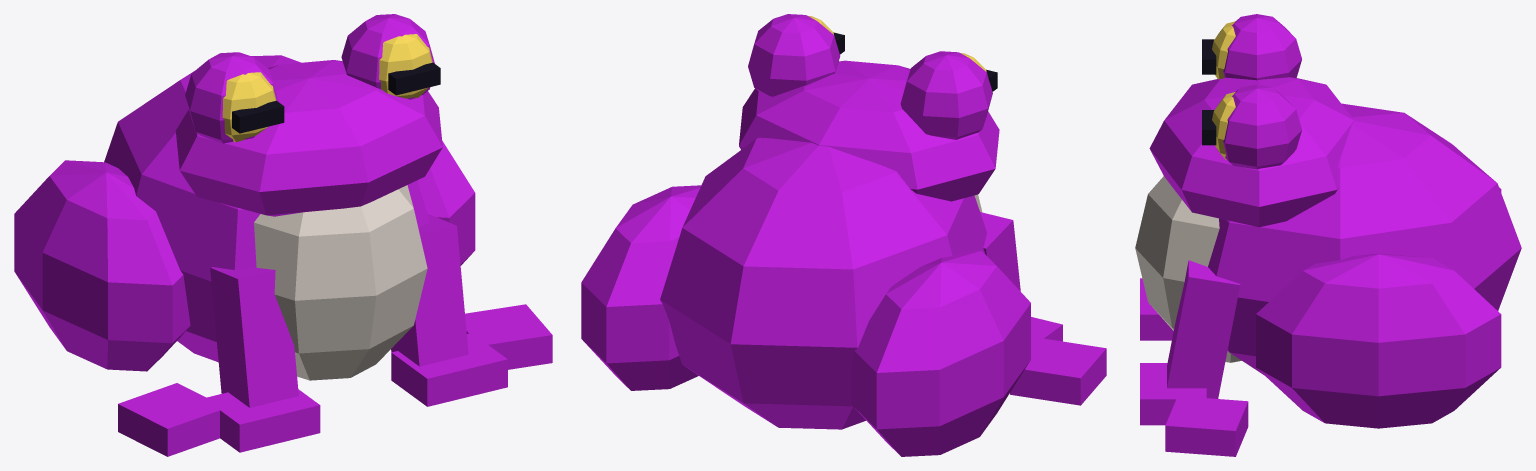
The model's file is frog_violet.glb.
The picture shows the model from 3 angles, left to right: view 1: azimuth 30°, elevation 25°; view 2: azimuth 150°, elevation 25°; view 3: azimuth 270°, elevation 25°; orthographic projection. The views are drawn at different scales.
Visible parts, largest first — view 1: Frog; view 2: Frog; view 3: Frog.
Boxes of the visible parts, x1,y1,x2,y2 form: Frog: [14, 14, 552, 456]; Frog: [581, 14, 1106, 456]; Frog: [1135, 14, 1521, 456].
Bounding box in the file's own units: 0.9138 × 0.75 × 0.81.
